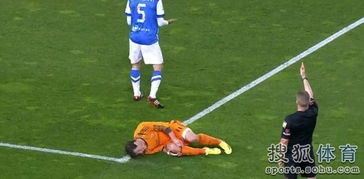falling: (118, 113, 237, 161)
